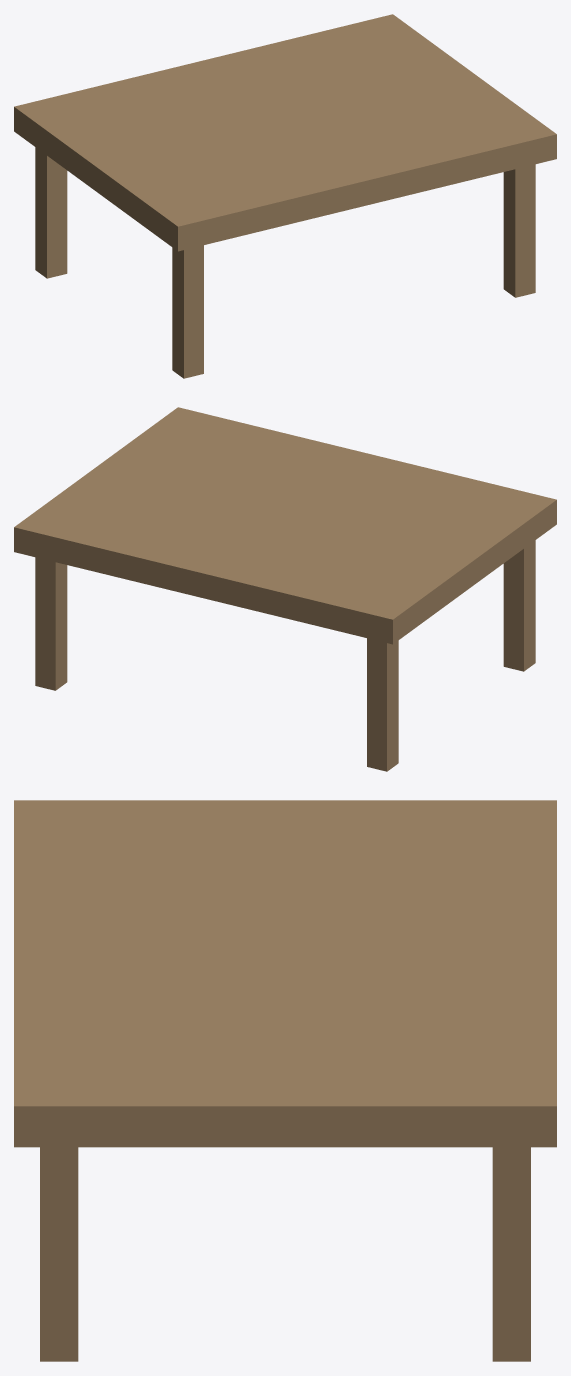
The model's file is zoo-and-safari-park-builder-feeding-platform-a32f1845__21470.glb.
The picture shows the model from 3 angles, top to bottom: view 1: azimuth 30°, elevation 25°; view 2: azimuth 150°, elevation 25°; view 3: azimuth 270°, elevation 25°; orthographic projection. The views are drawn at different scales.
Visible parts, largest first — view 1: feeding-platform; view 2: feeding-platform; view 3: feeding-platform.
Part boxes in pixels (x1,y1,x2,y2): feeding-platform: (14, 14, 556, 378); feeding-platform: (14, 407, 556, 771); feeding-platform: (14, 800, 556, 1361).
Size of the model in its own units: 1.6 by 0.6501 by 1.2.
